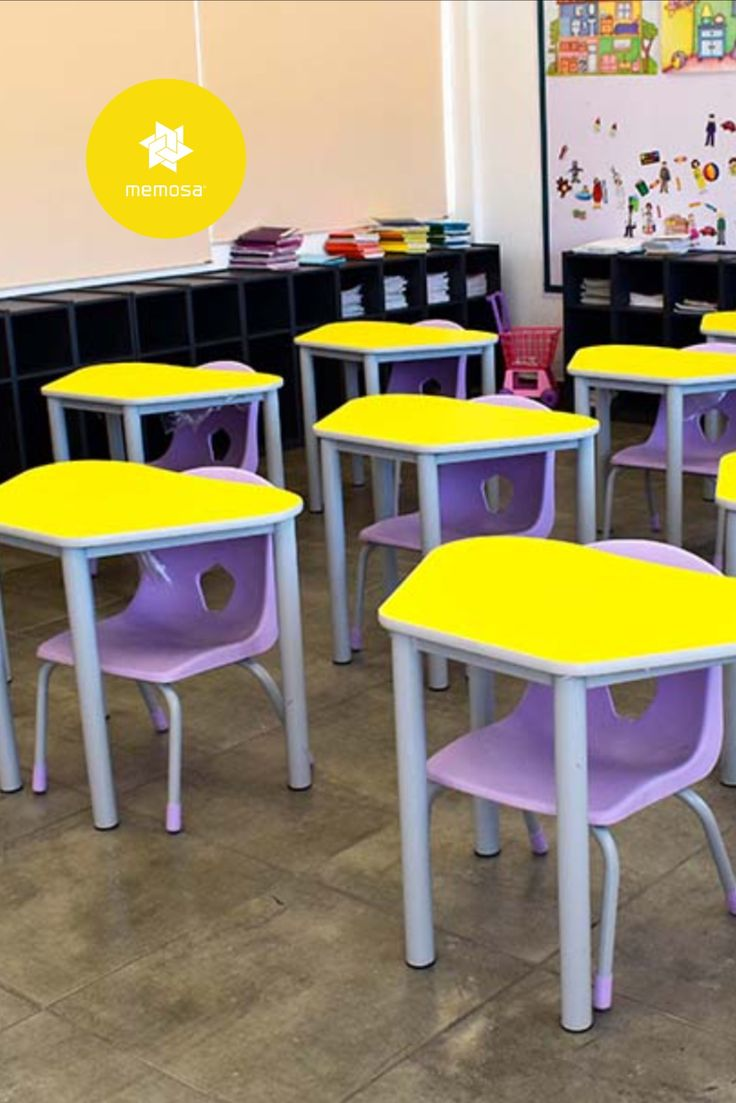m01: (378, 536, 736, 1036)
